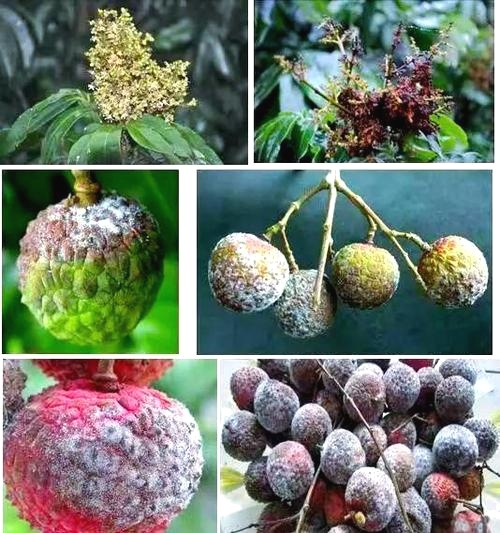Frost_Blight: (236, 361, 487, 519), (68, 402, 198, 523), (310, 31, 423, 142), (81, 27, 196, 124), (36, 200, 136, 276)
